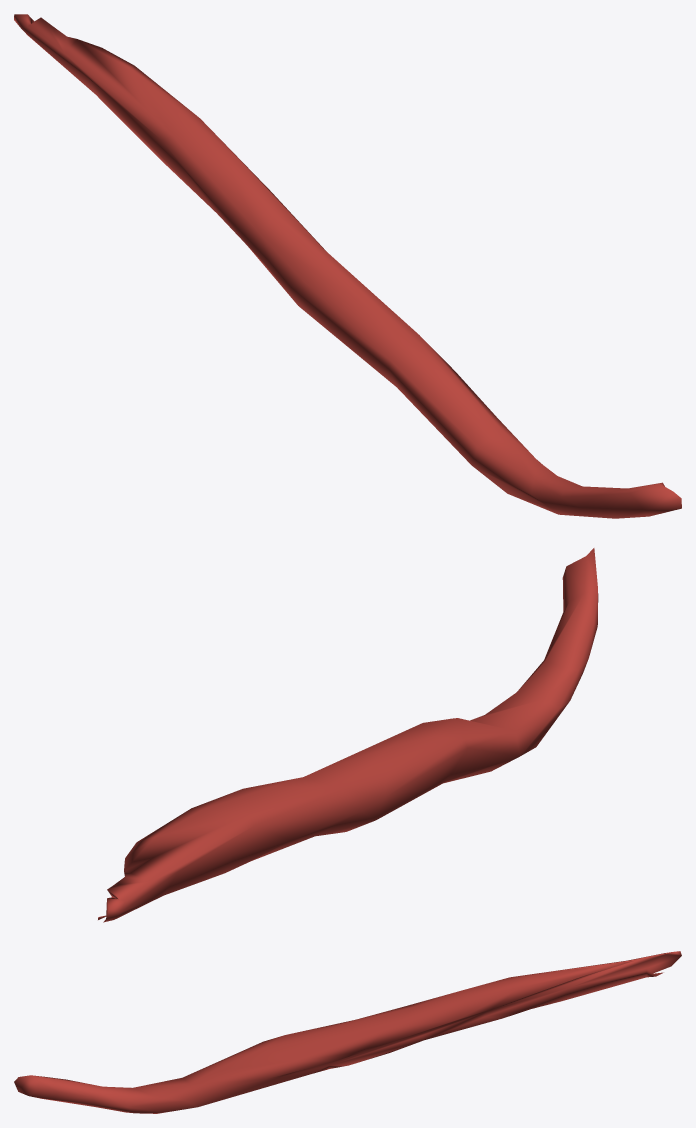
File: musculos-lumbrical-muscles-of-foot-l.glb
3 views of the same model, one above another, from view 1: azimuth 30°, elevation 25°; view 2: azimuth 150°, elevation 25°; view 3: azimuth 270°, elevation 25° (orthographic). The views are drawn at different scales.
Parts seen in each view (by area): view 1: Lumbrical muscles of foot.l; view 2: Lumbrical muscles of foot.l; view 3: Lumbrical muscles of foot.l.
Boxes of the visible parts, x1,y1,x2,y2 form: Lumbrical muscles of foot.l: (14,14,681,518); Lumbrical muscles of foot.l: (98,548,598,922); Lumbrical muscles of foot.l: (14,951,681,1113).
Size of the model in its own units: 0.0157 by 0.0202 by 0.094.
